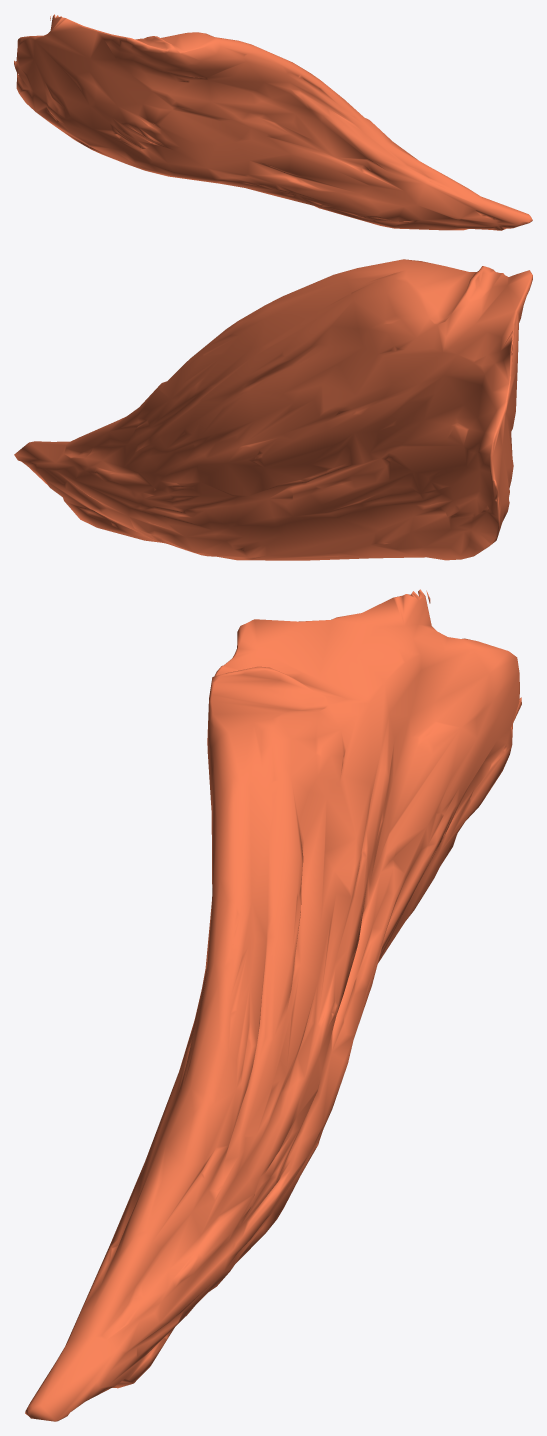
File: Piriformis_left.glb
3 views of the same model, one above another, from view 1: azimuth 30°, elevation 25°; view 2: azimuth 150°, elevation 25°; view 3: azimuth 270°, elevation 25° (orthographic). The views are drawn at different scales.
Parts seen in each view (by area): view 1: Piriformis_muscle.l_Generated_Mesh_From_X3D.298; view 2: Piriformis_muscle.l_Generated_Mesh_From_X3D.298; view 3: Piriformis_muscle.l_Generated_Mesh_From_X3D.298.
Boxes of the visible parts, bbox=[...] form: Piriformis_muscle.l_Generated_Mesh_From_X3D.298: bbox=[14, 14, 532, 230]; Piriformis_muscle.l_Generated_Mesh_From_X3D.298: bbox=[14, 259, 532, 560]; Piriformis_muscle.l_Generated_Mesh_From_X3D.298: bbox=[25, 589, 521, 1421].
Size of the model in its own units: 0.11 by 0.0631 by 0.0592.
